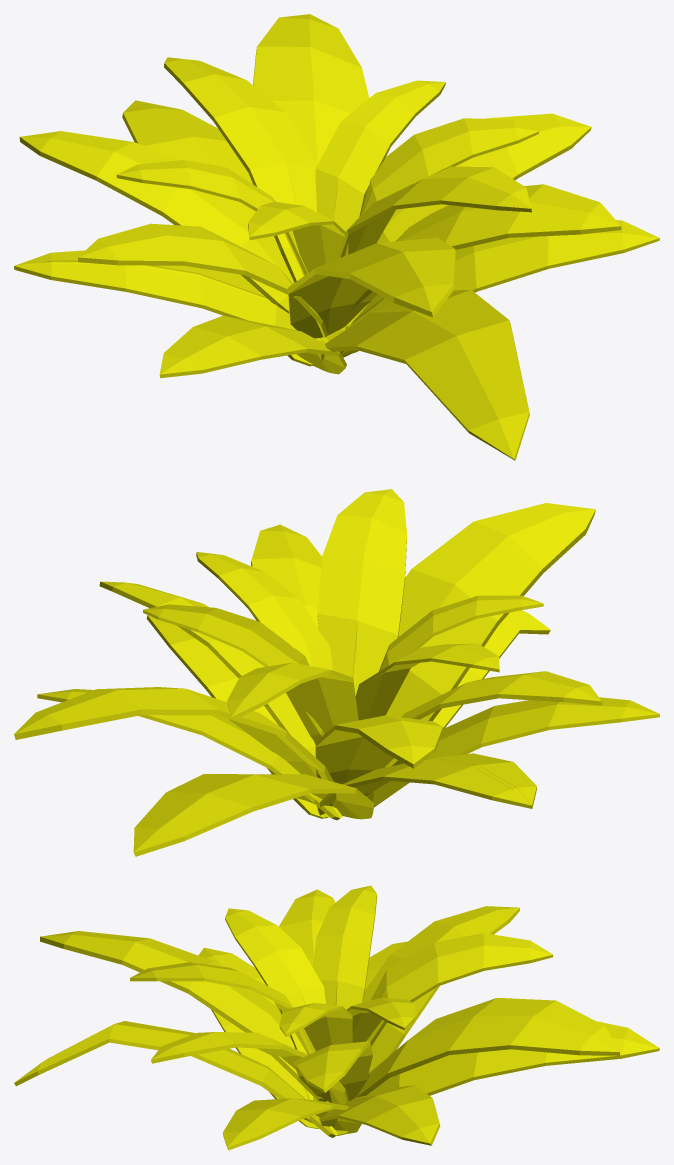
3 views of the same model, one above another, from view 1: azimuth 30°, elevation 25°; view 2: azimuth 150°, elevation 25°; view 3: azimuth 270°, elevation 25° (orthographic). The views are drawn at different scales.
Parts seen in each view (by area): view 1: grass; view 2: grass; view 3: grass.
Part boxes in pixels (bbox=[...]): grass: bbox=[14, 14, 659, 460]; grass: bbox=[14, 489, 659, 856]; grass: bbox=[14, 885, 659, 1150].
Bounding box in the file's own units: 1.58 × 0.6779 × 2.11.
1 material, 1 textured.
